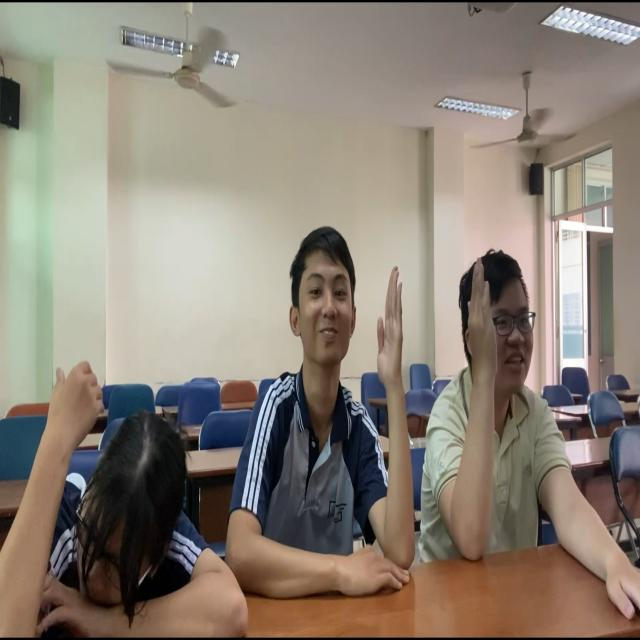raise_hand: (253, 228, 409, 610), (449, 234, 575, 557)
